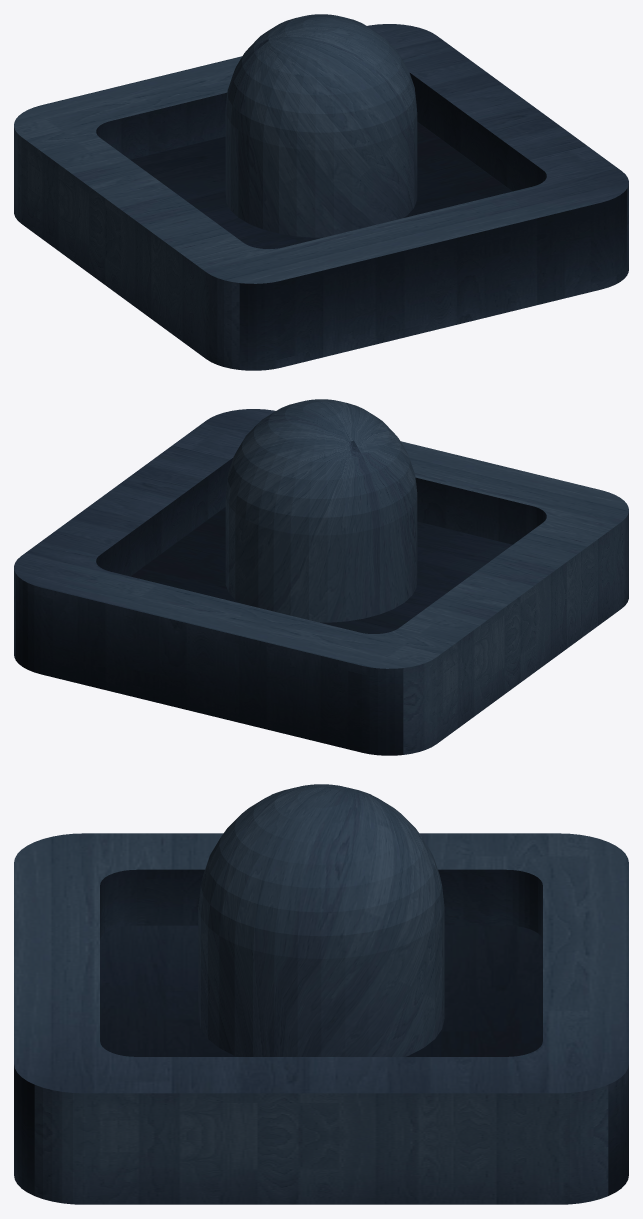
File: square_paddle.obj
The picture shows the model from 3 angles, top to bottom: view 1: azimuth 30°, elevation 25°; view 2: azimuth 150°, elevation 25°; view 3: azimuth 270°, elevation 25°; orthographic projection. The views are drawn at different scales.
Visible parts, largest first — view 1: Cube.001; view 2: Cube.001; view 3: Cube.001.
Part boxes in pixels (x1,y1,x2,y2): Cube.001: [14, 14, 628, 370]; Cube.001: [14, 399, 628, 755]; Cube.001: [14, 784, 628, 1204].
Size of the model in its own units: 1.25 by 0.6263 by 1.25.
1 material, 1 textured.
